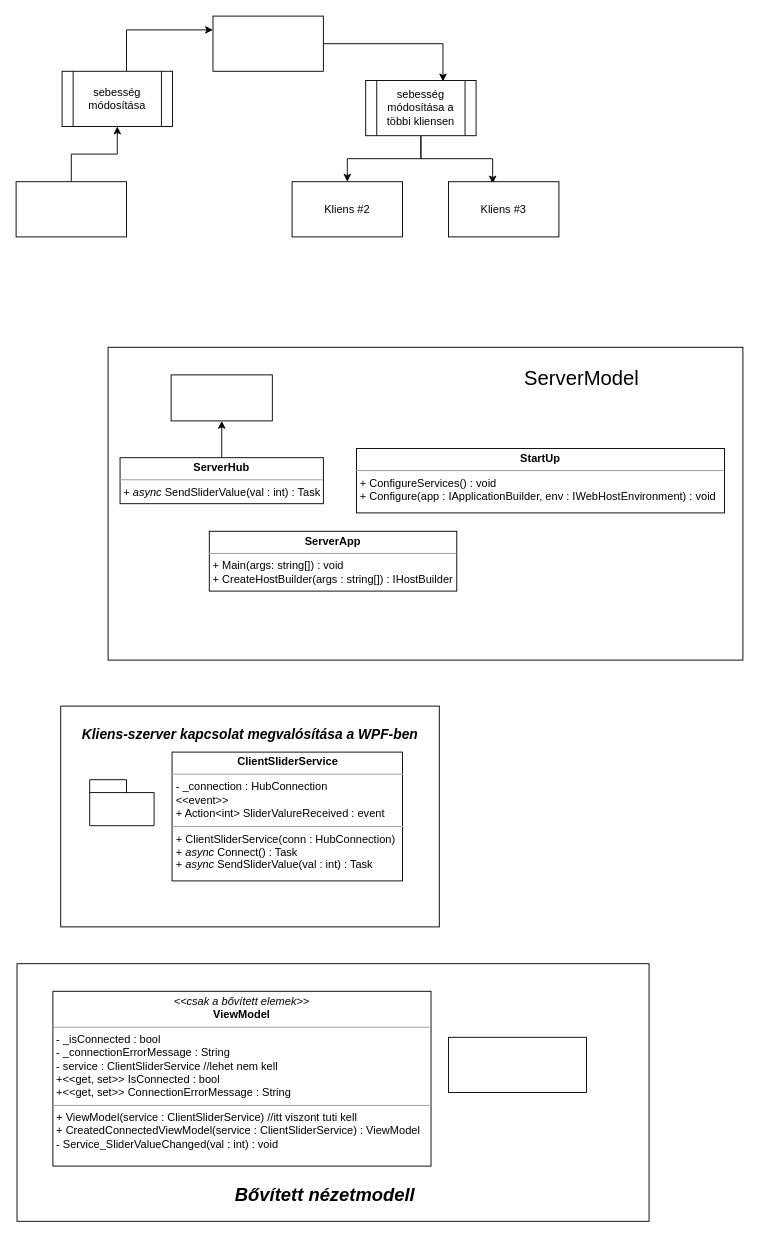
This 759x1237 diagram has some shape labels left out. The centre of each missing label's shape, as x and y in pixels:
"Hub" belongs at pixel 221 397.
"Kliens #1" belongs at pixel 70 209.
"SignalR" belongs at pixel 121 802.
"Slider saját ValueChanged eventtel" belongs at pixel 517 1064.
"Szerver" belongs at pixel 267 43.
